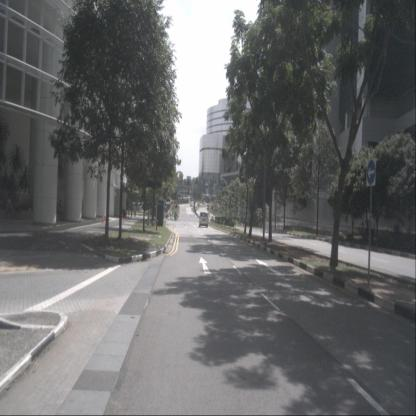cone: (102, 212, 104, 222)
